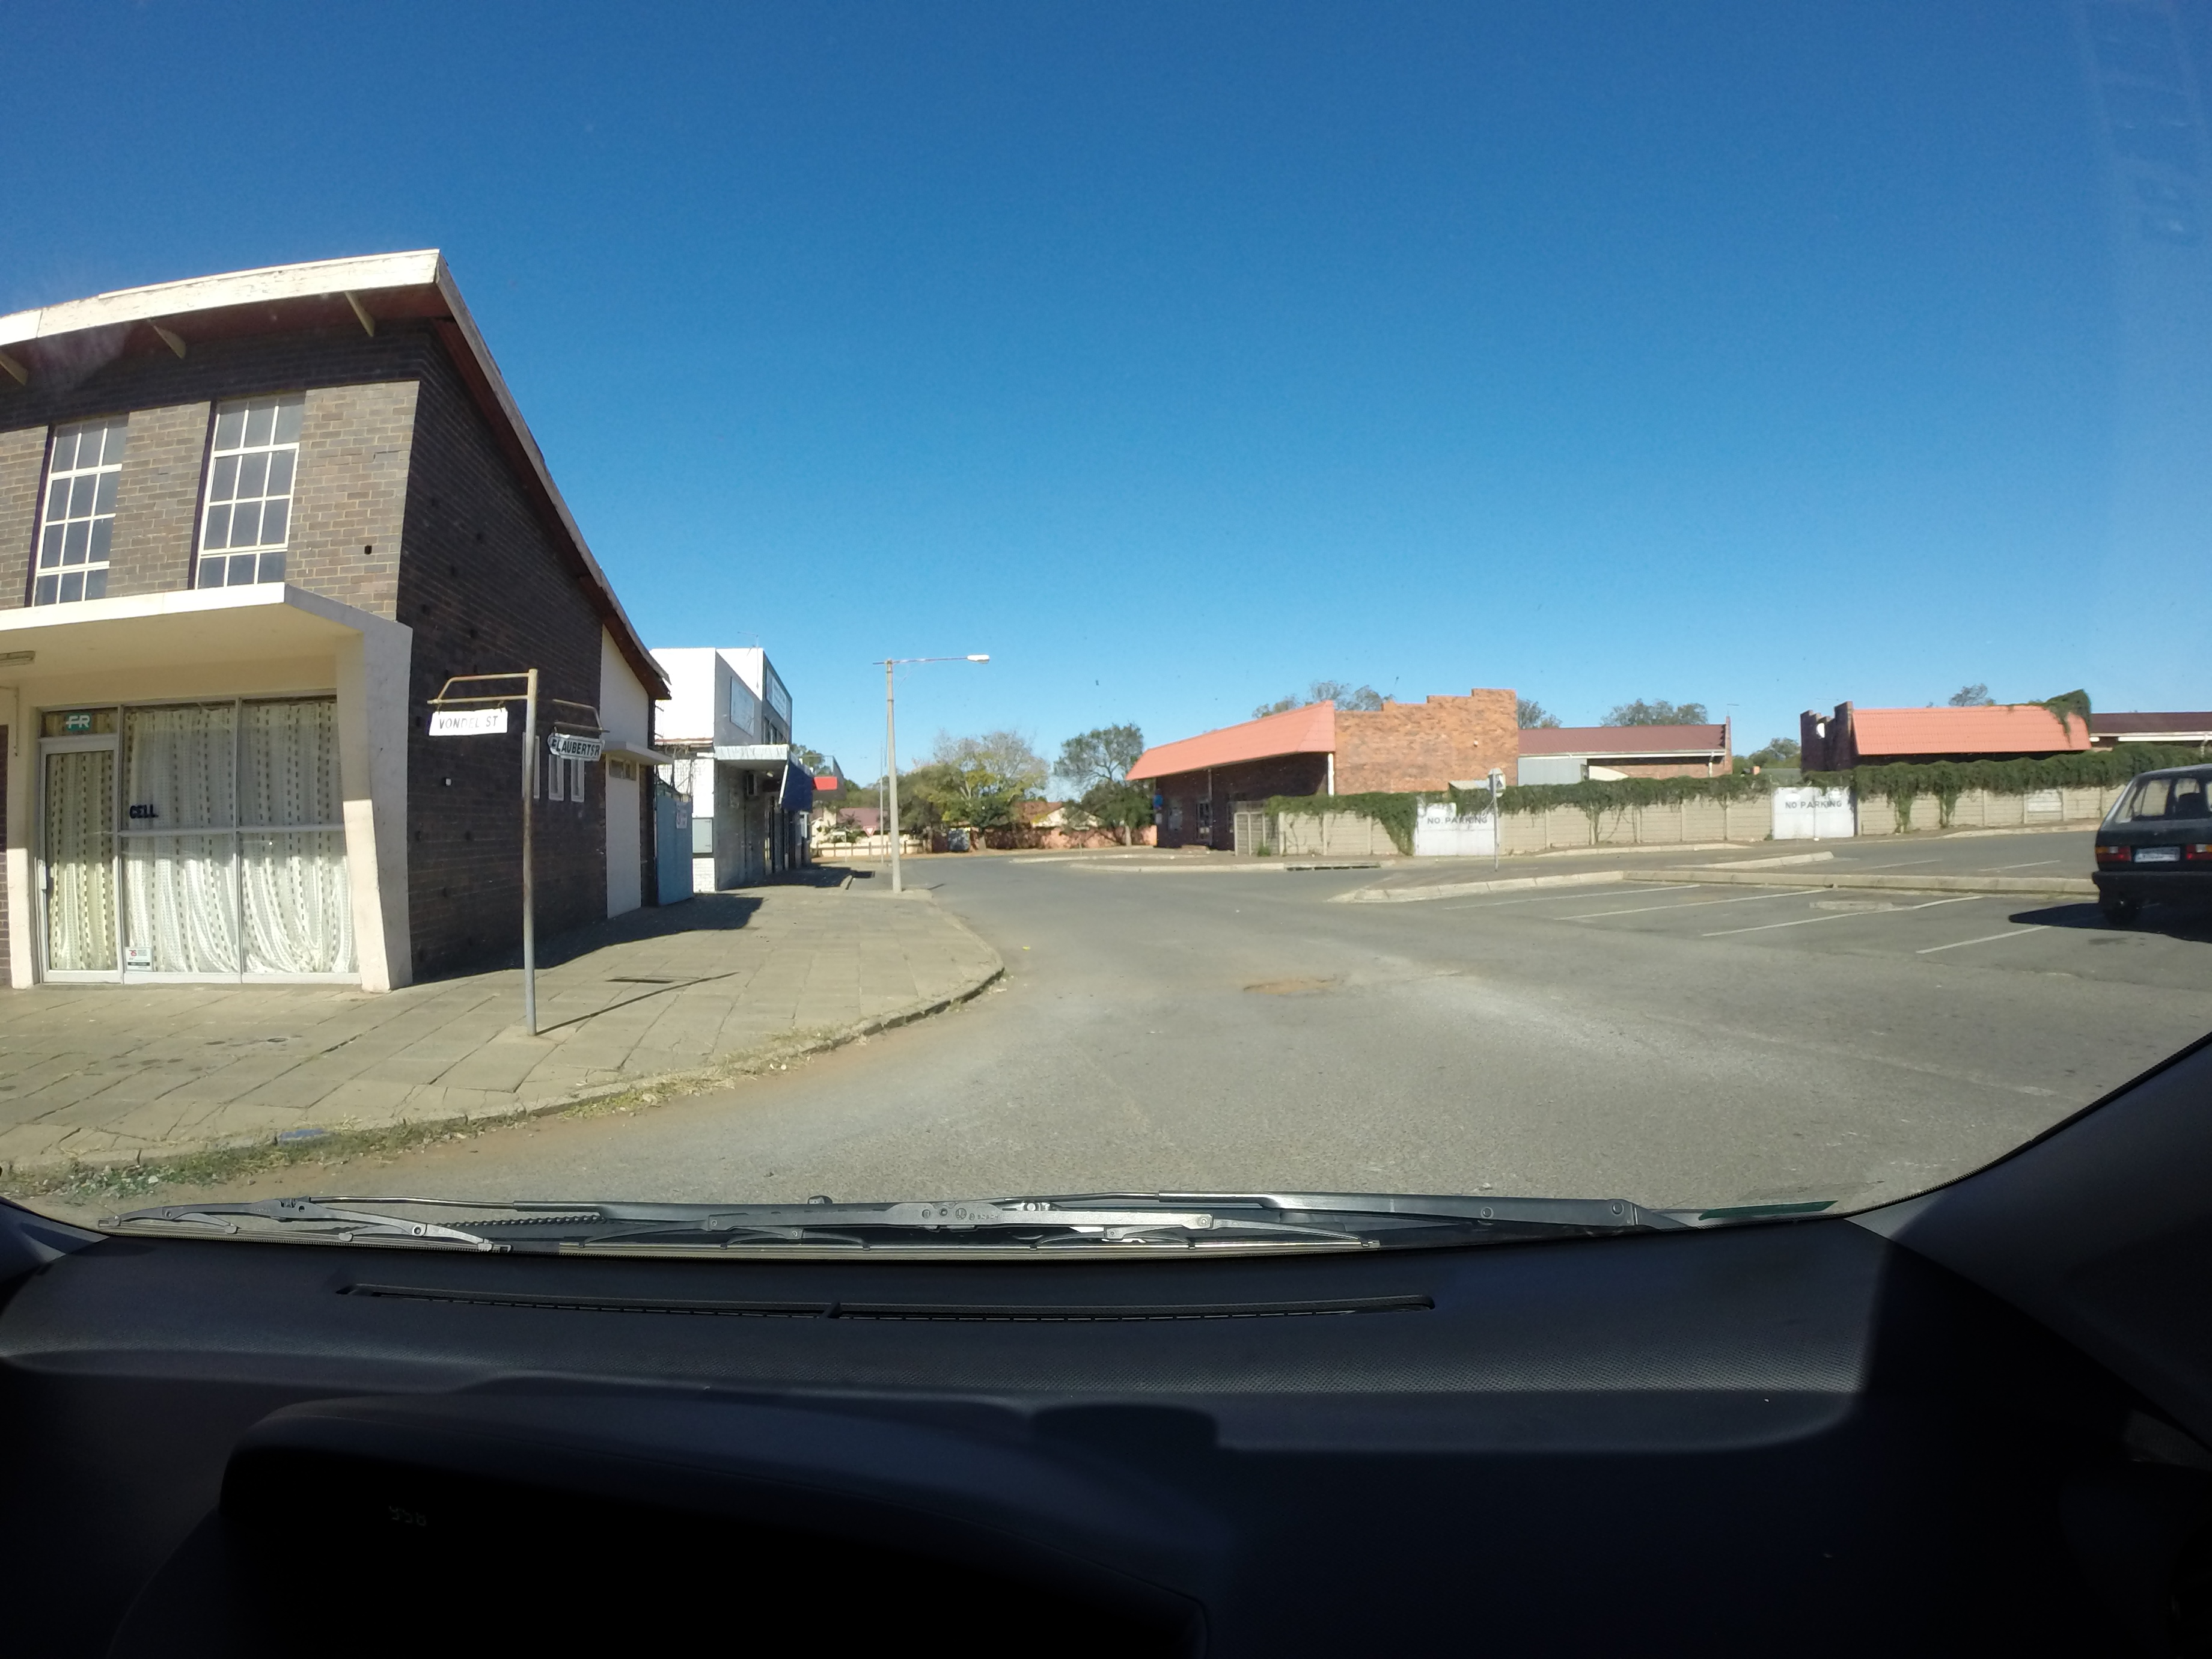pothole: (1195, 915, 1390, 1044)
